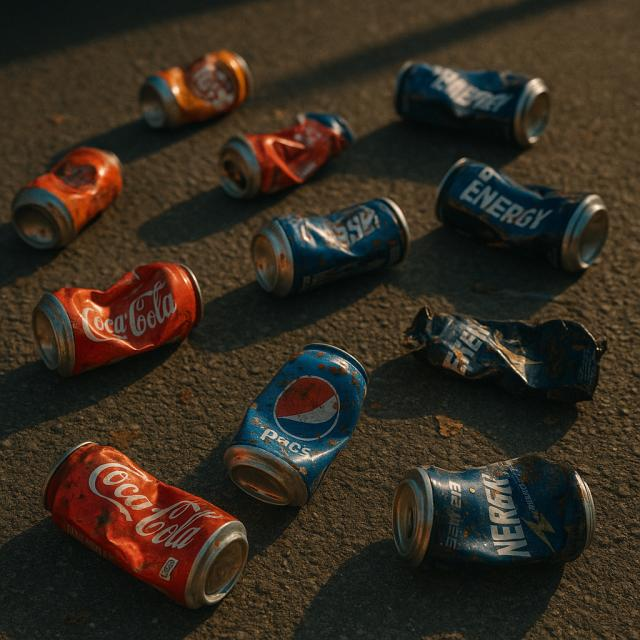aluminum: (40, 441, 248, 615), (220, 342, 370, 511), (397, 452, 595, 566), (431, 157, 613, 272), (25, 261, 203, 375), (251, 196, 411, 300), (397, 60, 550, 148)
